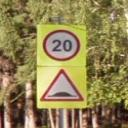speed_limit_20: (42, 28, 82, 64)
